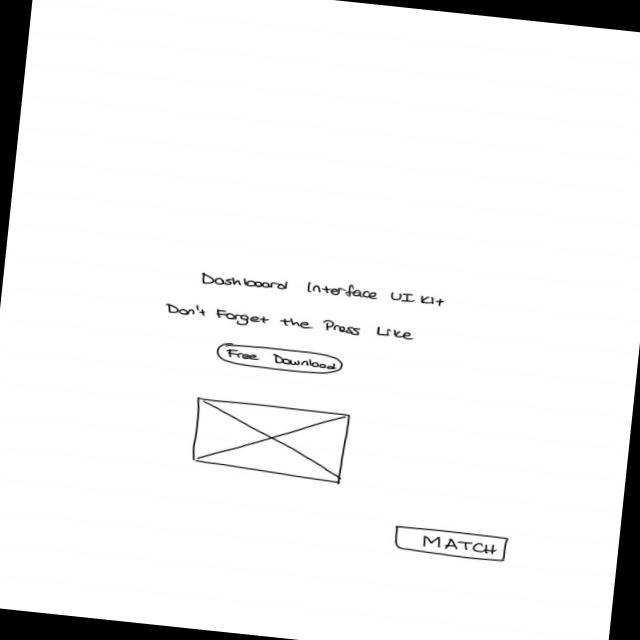button: (214, 341, 347, 379), (391, 524, 511, 564)
label: (188, 396, 351, 488), (163, 301, 418, 346), (199, 269, 448, 312)
